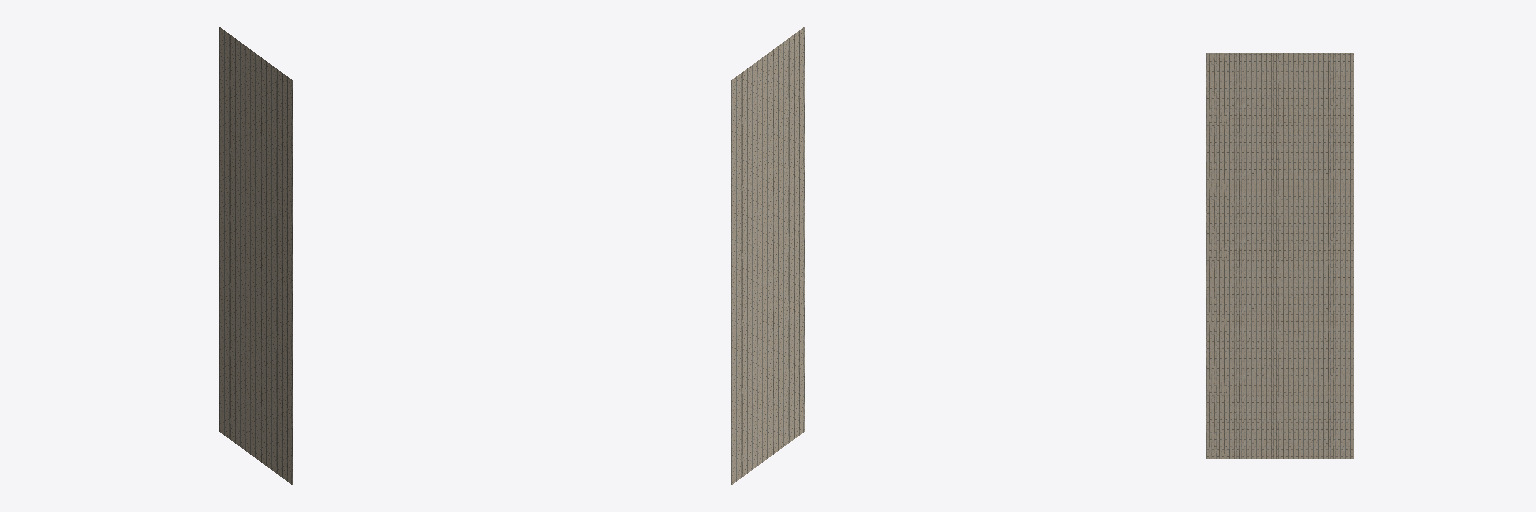
3 renders of one model, left to right at view 1: azimuth 30°, elevation 25°; view 2: azimuth 150°, elevation 25°; view 3: azimuth 270°, elevation 25°, orthographic.
Parts seen in each view (by area): view 1: Plane001; view 2: Plane001; view 3: Plane001.
Boxes of the visible parts, x1,y1,x2,y2 form: Plane001: [219, 27, 292, 484]; Plane001: [731, 27, 804, 484]; Plane001: [1206, 53, 1353, 458].
Size of the model in its own units: 0 by 602 by 200.
1 materials, 1 textured.